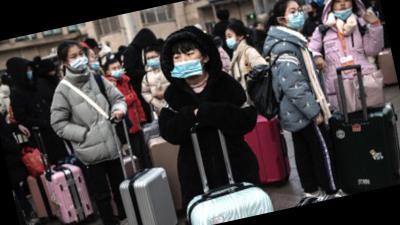mask_weared_incorrect: (86, 50, 103, 73)
with_mask: (171, 47, 208, 81), (65, 48, 90, 74), (283, 5, 307, 31), (224, 30, 241, 53), (145, 54, 162, 71), (110, 64, 125, 80)
